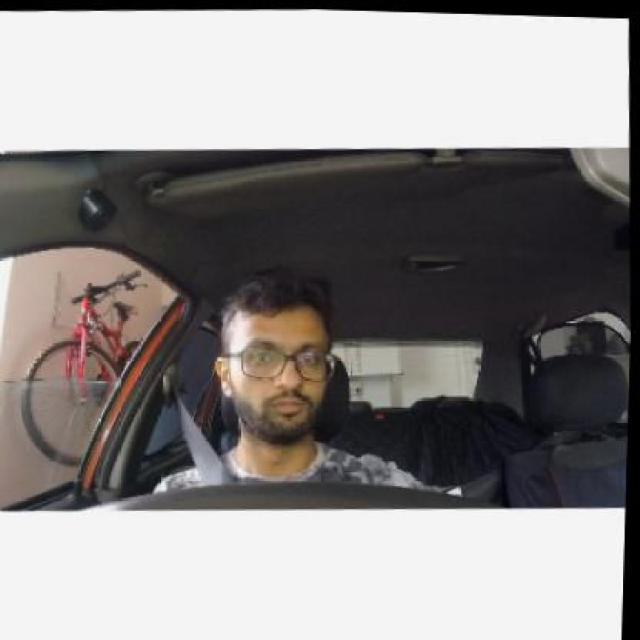person: (212, 283, 341, 448)
